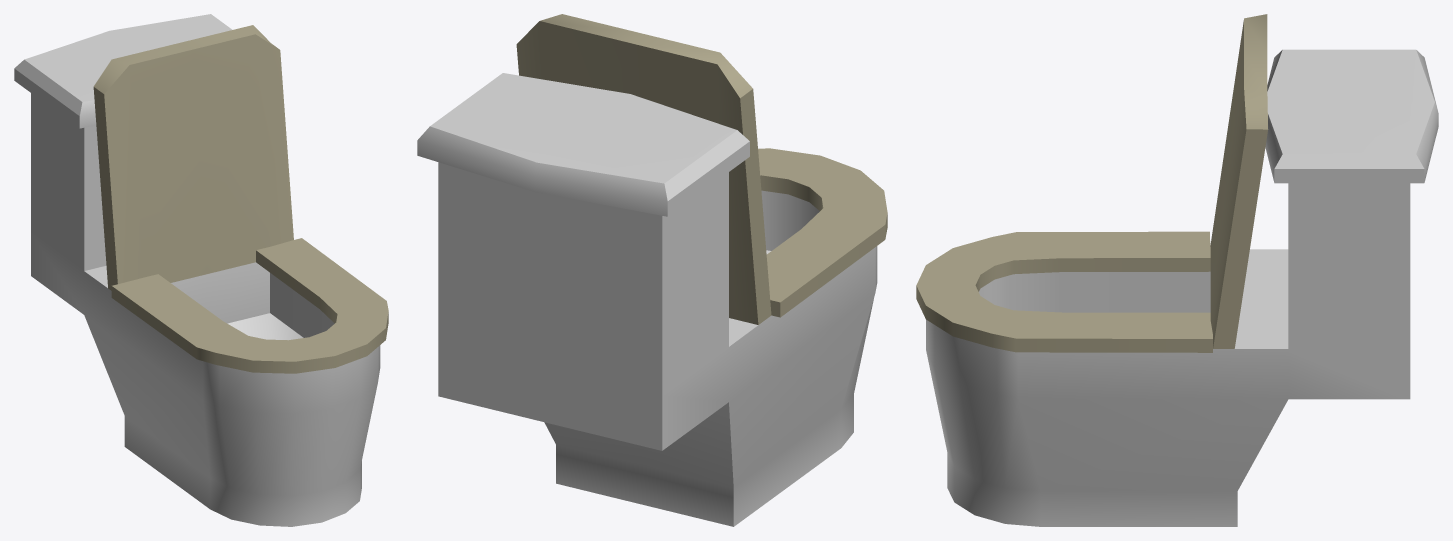
Rendered from Toilet.fbx.
3 views of the same model, side by side, from view 1: azimuth 30°, elevation 25°; view 2: azimuth 150°, elevation 25°; view 3: azimuth 270°, elevation 25° (orthographic). The views are drawn at different scales.
Visible parts, largest first — view 1: pCylinder1; view 2: pCylinder1; view 3: pCylinder1.
Boxes of the visible parts, x1,y1,x2,y2 form: pCylinder1: (14,14,388,526); pCylinder1: (417,14,887,526); pCylinder1: (916,14,1438,526).
Size of the model in its own units: 2.82 by 5.11 by 5.57.
